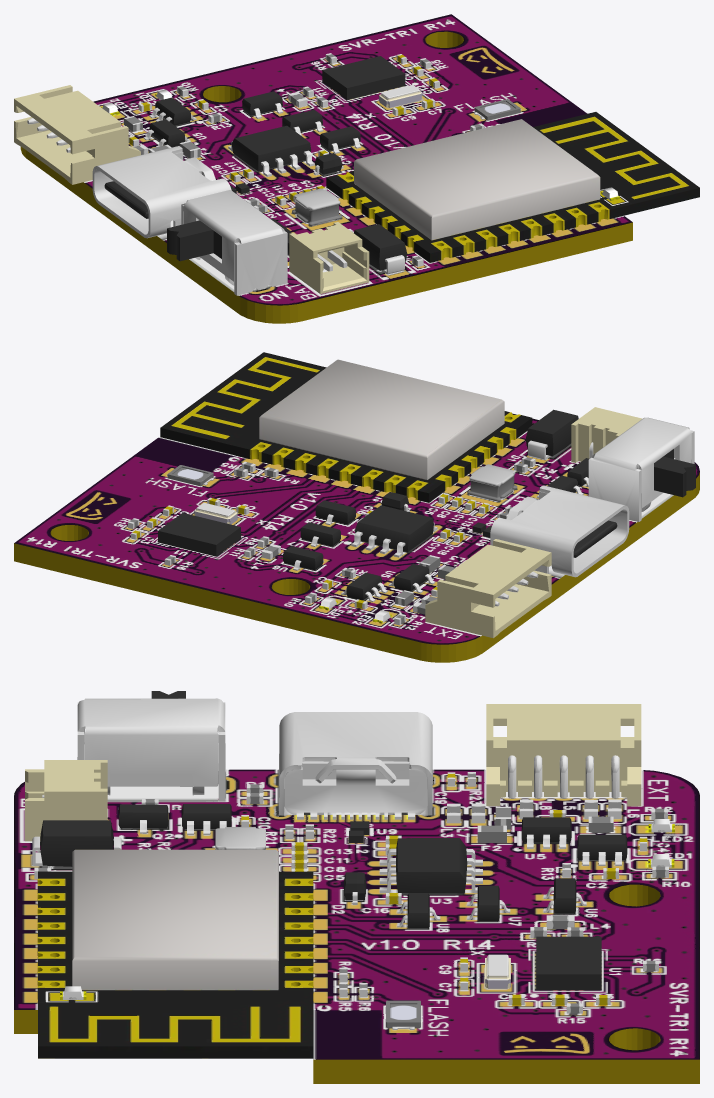
Rendered from SlimeVRPCB2.glb.
3 views of the same model, one above another, from view 1: azimuth 30°, elevation 25°; view 2: azimuth 150°, elevation 25°; view 3: azimuth 270°, elevation 25° (orthographic). The views are drawn at different scales.
Parts seen in each view (by area): view 1: SlimeTrackerDetailed; view 2: SlimeTrackerDetailed; view 3: SlimeTrackerDetailed.
Boxes of the visible parts, bbox=[...] form: SlimeTrackerDetailed: bbox=[14, 14, 699, 323]; SlimeTrackerDetailed: bbox=[14, 352, 699, 662]; SlimeTrackerDetailed: bbox=[14, 691, 699, 1083].
Size of the model in its own units: 3.03 by 0.5266 by 2.84.
Materials: 15 (11 with a texture image).
